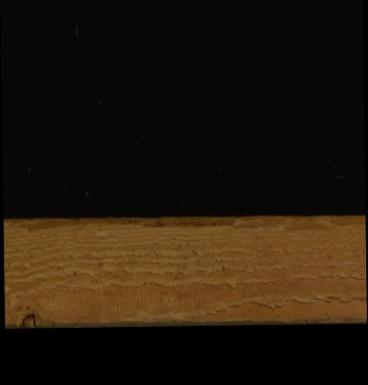edge_knot: (15, 310, 39, 327)
wave: (3, 213, 364, 227)
